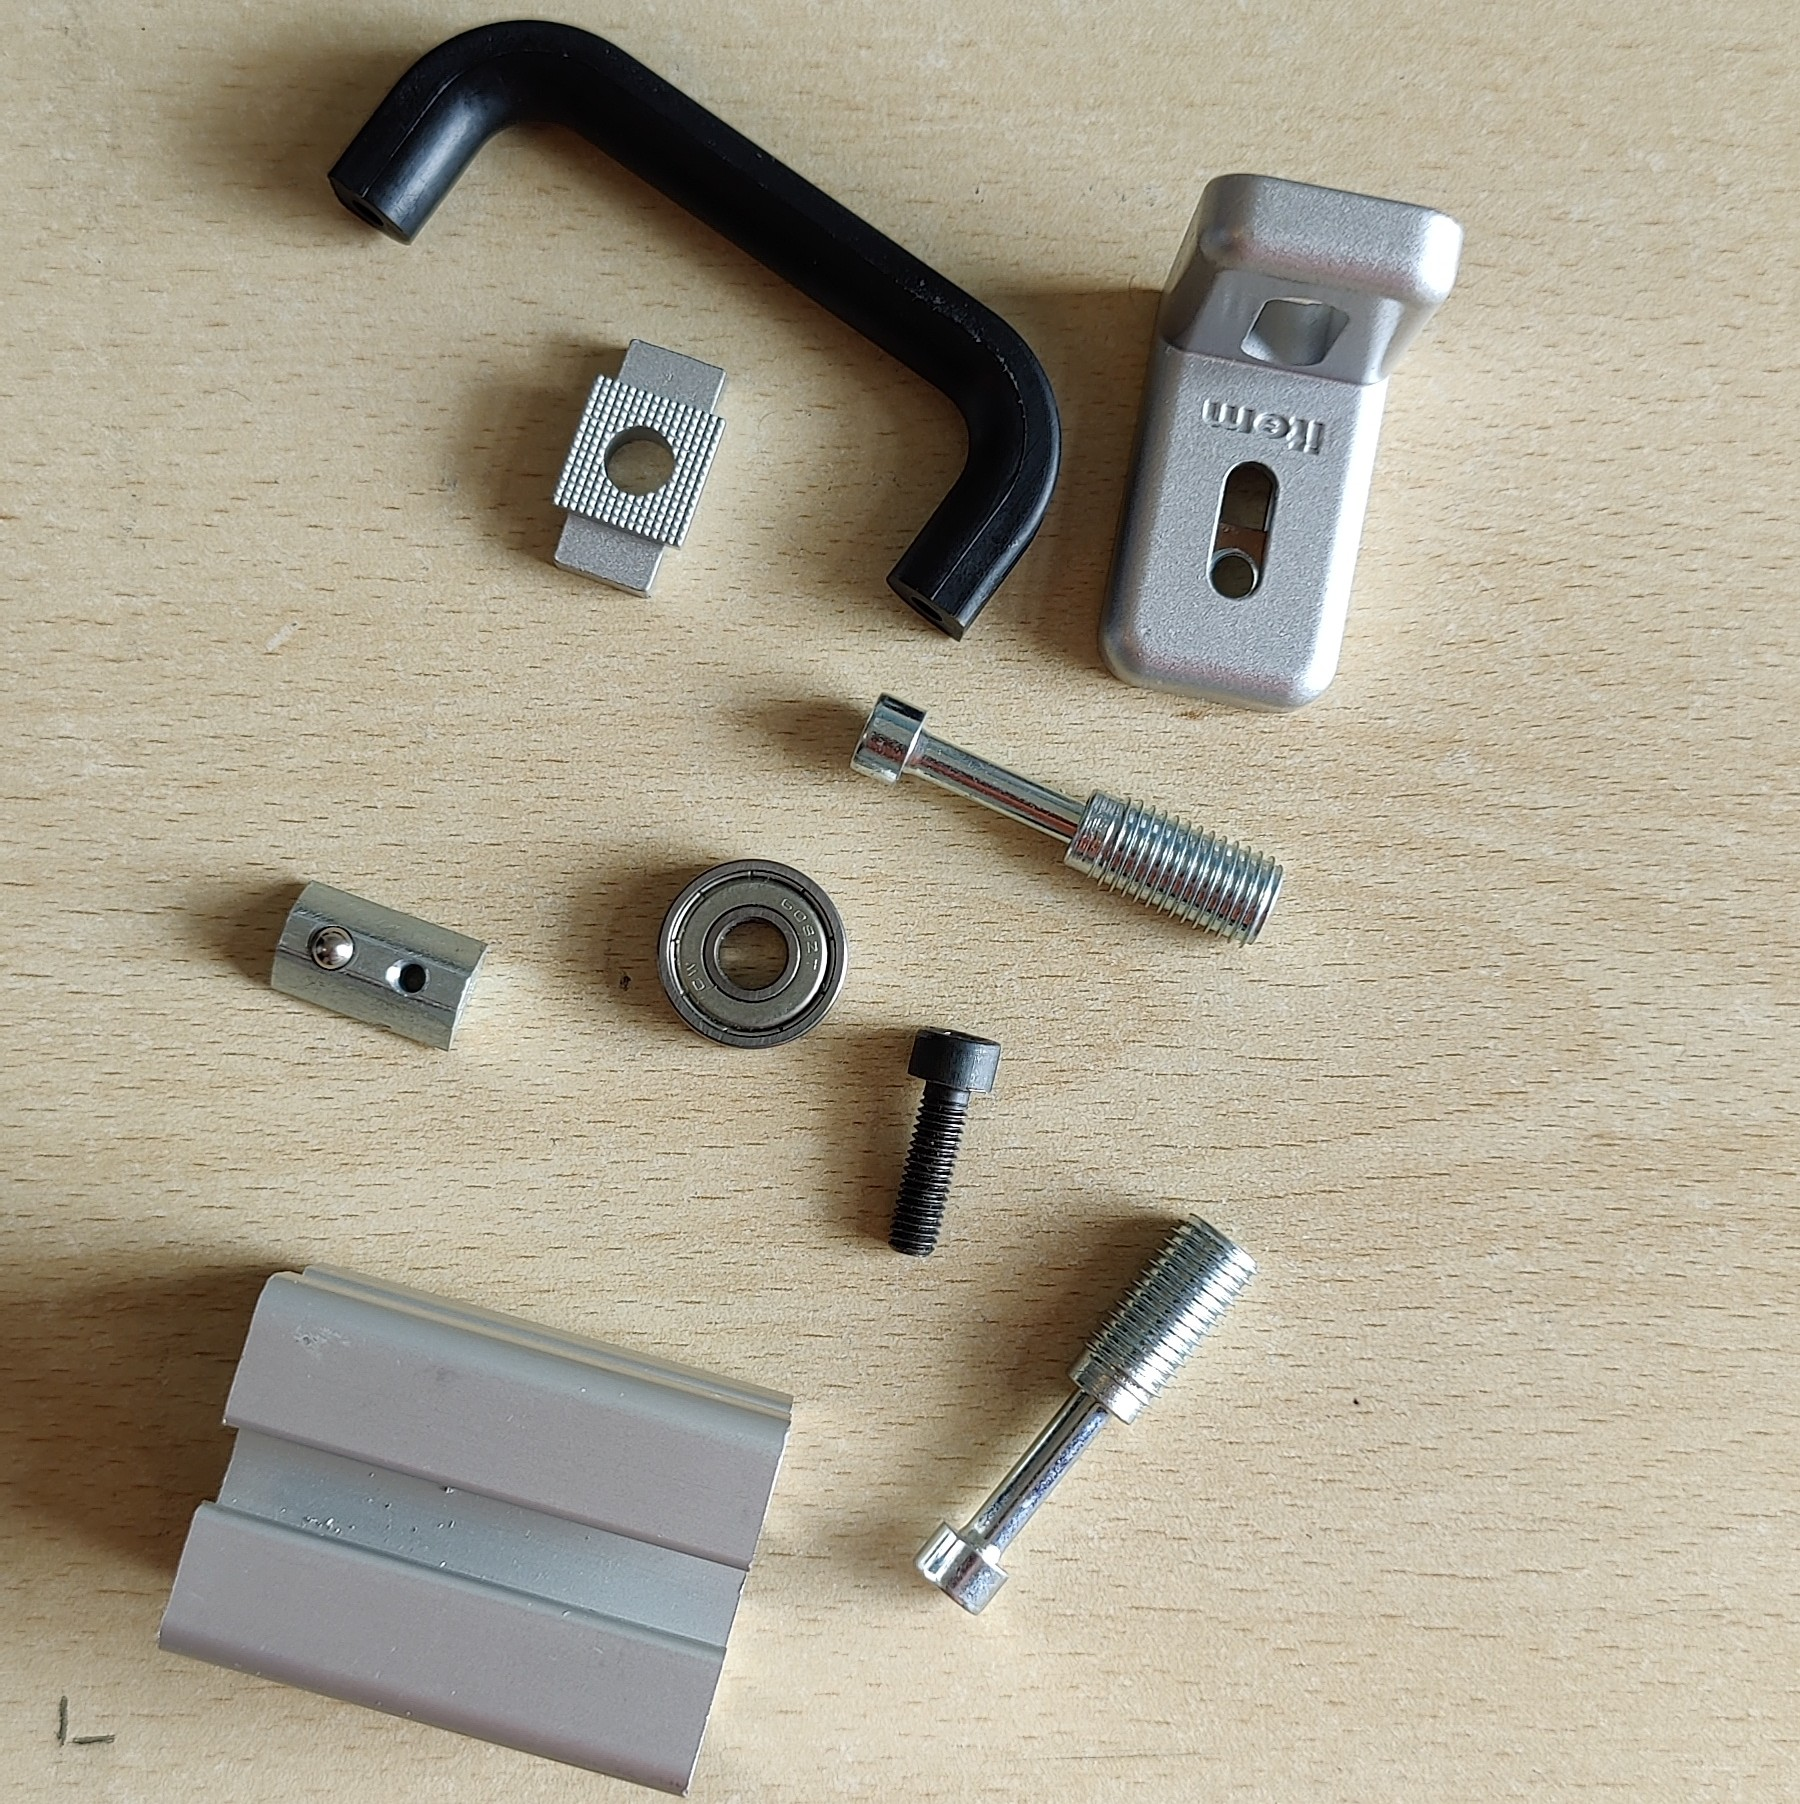Aluminium Extension: (153, 1261, 798, 1804)
Ball Bearing: (654, 856, 847, 1050)
Multiwinkel: (1093, 171, 1469, 717)
Pull Handle: (321, 15, 1063, 645)
Shoulder Socket Head Cap Screw: (910, 1209, 1259, 1618), (846, 693, 1286, 951)
Socket Head Cap Screw: (884, 1026, 1004, 1258)
T Nut Square: (549, 333, 734, 600)
T Spring Nut: (269, 881, 491, 1055)
